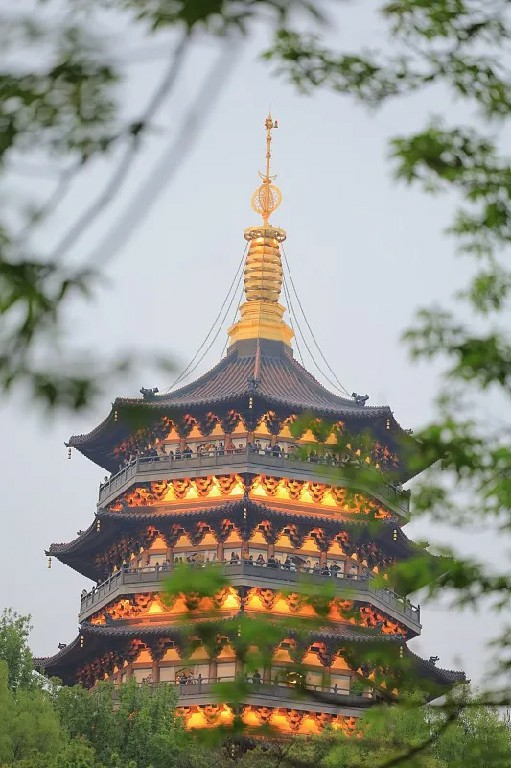Leifeng: (21, 101, 470, 740)
